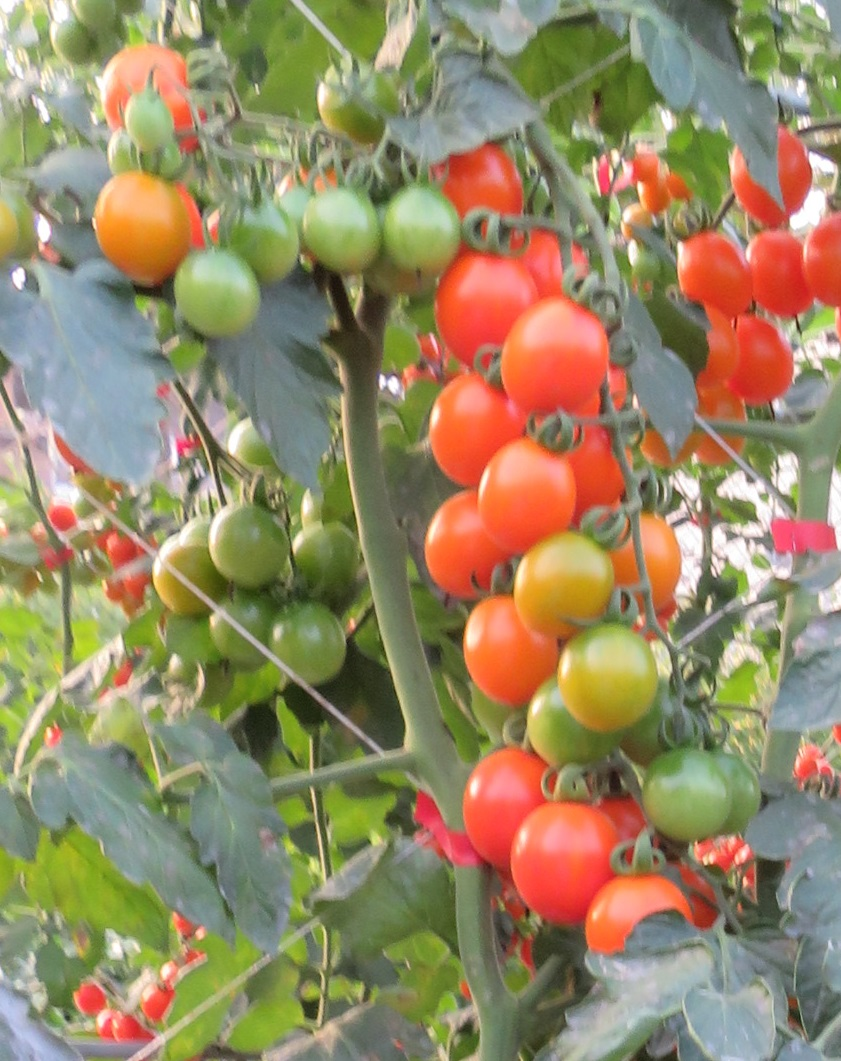green: (556, 615, 658, 736), (515, 526, 615, 643), (307, 55, 410, 144), (300, 175, 377, 285), (170, 247, 257, 342), (265, 596, 352, 686), (225, 188, 301, 290), (210, 498, 291, 592), (382, 177, 453, 284), (647, 743, 719, 842), (291, 515, 366, 594), (206, 590, 278, 668), (147, 539, 217, 616)
orange: (498, 294, 614, 420), (505, 803, 613, 931), (425, 373, 530, 486), (430, 261, 537, 371), (471, 439, 573, 552), (89, 175, 189, 282), (455, 604, 547, 710), (416, 485, 504, 594), (582, 877, 697, 960), (726, 119, 817, 218), (464, 751, 539, 868), (607, 507, 684, 616), (723, 307, 802, 409), (741, 226, 811, 327), (441, 144, 526, 225), (677, 235, 755, 319), (680, 381, 756, 461)
